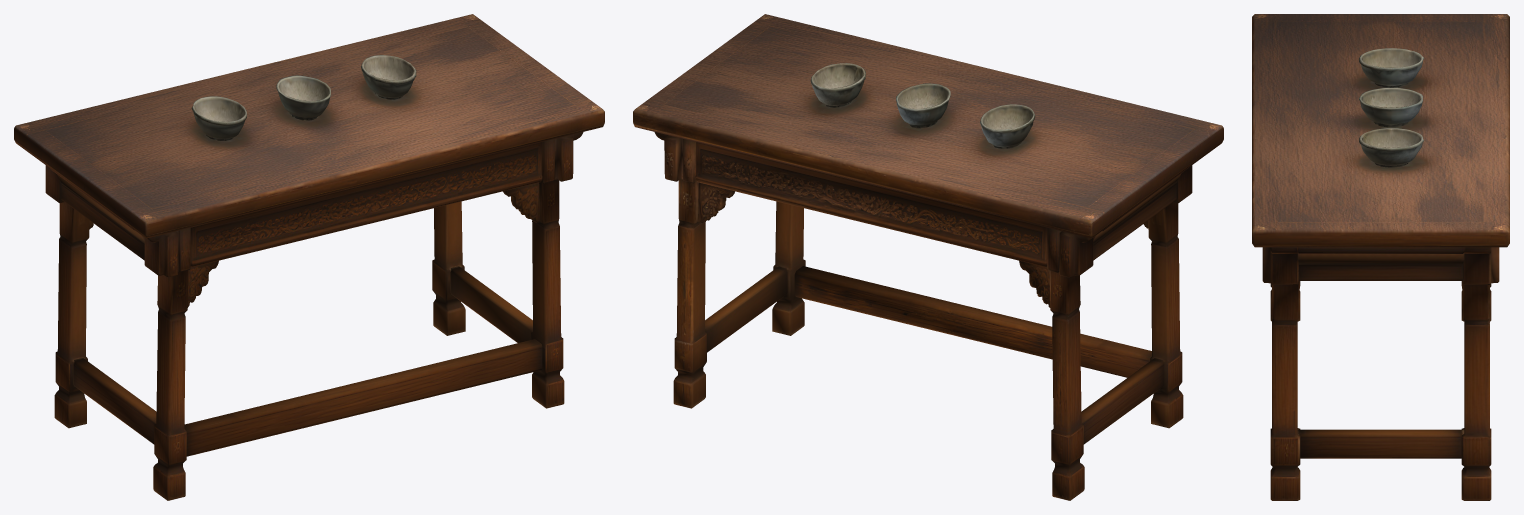
File: furniture-offering-table.glb
3 views of the same model, side by side, from view 1: azimuth 30°, elevation 25°; view 2: azimuth 150°, elevation 25°; view 3: azimuth 270°, elevation 25° (orthographic). The views are drawn at different scales.
Visible parts, largest first — view 1: tripo_node_dc81564f-e481-4b2d-9b8f-df8bc2566ae9; view 2: tripo_node_dc81564f-e481-4b2d-9b8f-df8bc2566ae9; view 3: tripo_node_dc81564f-e481-4b2d-9b8f-df8bc2566ae9.
Part boxes in pixels (box(x1,y1,x2,y2)): tripo_node_dc81564f-e481-4b2d-9b8f-df8bc2566ae9: box(14, 14, 604, 500); tripo_node_dc81564f-e481-4b2d-9b8f-df8bc2566ae9: box(633, 14, 1223, 500); tripo_node_dc81564f-e481-4b2d-9b8f-df8bc2566ae9: box(1252, 14, 1509, 500).
Bounding box in the file's own units: 1.3 × 0.86 × 0.65.
Materials: 1 (1 with a texture image).
